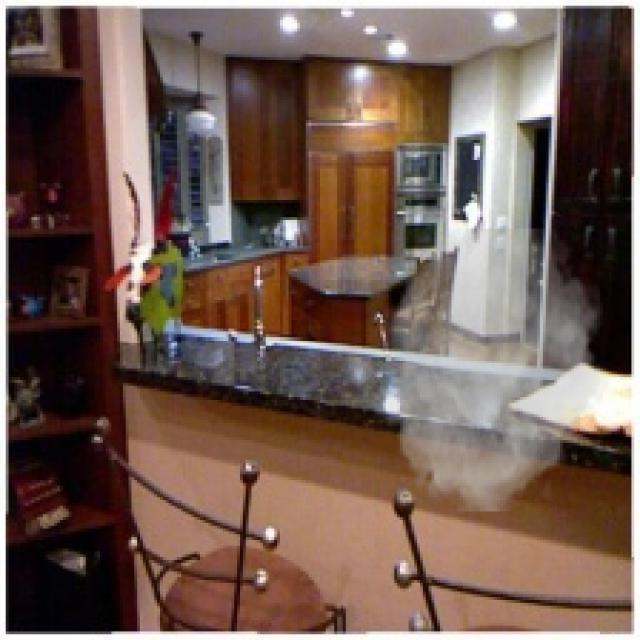smoke: (372, 228, 612, 512)
